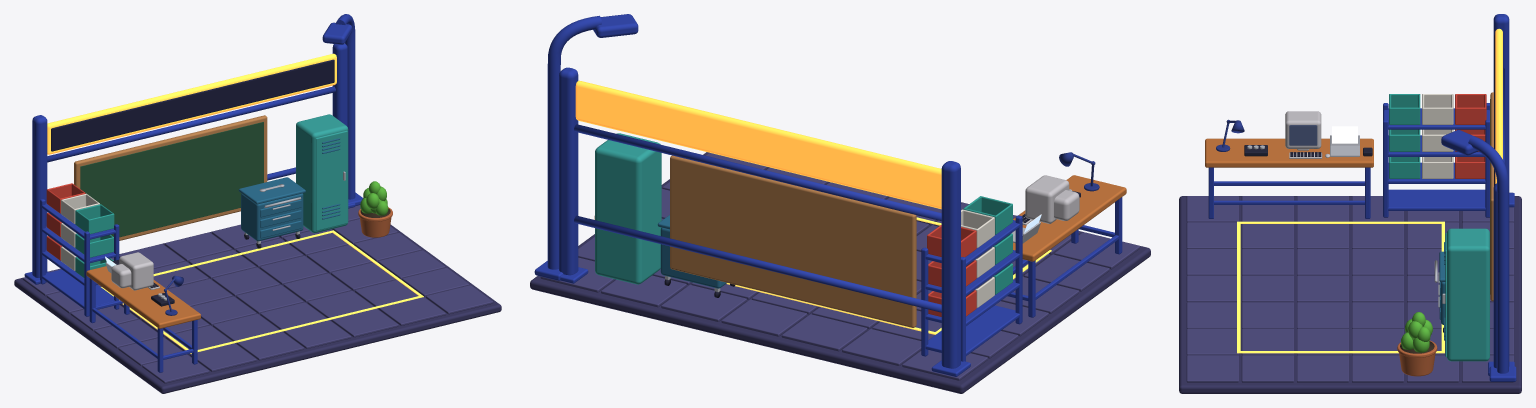
Rendered from pod.glb.
The picture shows the model from 3 angles, left to right: view 1: azimuth 30°, elevation 25°; view 2: azimuth 150°, elevation 25°; view 3: azimuth 270°, elevation 25°; orthographic projection. The views are drawn at different scales.
Visible parts, largest first — view 1: Floor, Board, SignPanel, Slab, Locker, Frame, Bench, Bins, Rack, ToolChest, SignRim, BoardFrame (+5 smaller); view 2: BoardFrame, Floor, SignRim, Frame, Slab, Locker, Rack, Bins, Bench, StreetLamp, Monitor, ToolChest (+1 smaller); view 3: Floor, Slab, Bins, Locker, Bench, Rack, StreetLamp, Frame, ZoneOutline, SignRim, Pot, Plant (+6 smaller).
Boxes of the visible parts, x1=… form: Floor: x1=22, y1=205, x2=493, y2=383; Board: x1=80, y1=122, x2=263, y2=237; SignPanel: x1=51, y1=59, x2=334, y2=151; Slab: x1=14, y1=224, x2=501, y2=393; Locker: x1=296, y1=114, x2=348, y2=233; Frame: x1=24, y1=43, x2=355, y2=284; Bench: x1=86, y1=266, x2=200, y2=372; Bins: x1=46, y1=183, x2=114, y2=277; Rack: x1=40, y1=199, x2=119, y2=316; ToolChest: x1=238, y1=177, x2=305, y2=248; SignRim: x1=47, y1=53, x2=336, y2=154; BoardFrame: x1=74, y1=115, x2=267, y2=240; BoardFrame: x1=670, y1=155, x2=916, y2=327; Floor: x1=540, y1=152, x2=1140, y2=380; SignRim: x1=575, y1=80, x2=941, y2=209; Frame: x1=559, y1=67, x2=970, y2=376; Slab: x1=530, y1=152, x2=1150, y2=393; Locker: x1=595, y1=133, x2=661, y2=284; Rack: x1=921, y1=215, x2=1022, y2=361; Bins: x1=927, y1=196, x2=1012, y2=316; Bench: x1=1007, y1=175, x2=1126, y2=317; StreetLamp: x1=534, y1=14, x2=638, y2=280; Monitor: x1=1025, y1=175, x2=1079, y2=223; ToolChest: x1=657, y1=215, x2=735, y2=297; Floor: x1=1186, y1=196, x2=1514, y2=382; Slab: x1=1179, y1=196, x2=1521, y2=393; Bins: x1=1389, y1=94, x2=1486, y2=178; Locker: x1=1442, y1=228, x2=1489, y2=361; Bench: x1=1205, y1=138, x2=1373, y2=218; Rack: x1=1383, y1=103, x2=1489, y2=217; StreetLamp: x1=1441, y1=130, x2=1516, y2=381; Frame: x1=1488, y1=14, x2=1514, y2=375; ZoneOutline: x1=1237, y1=221, x2=1444, y2=353; SignRim: x1=1495, y1=28, x2=1502, y2=183; Pot: x1=1397, y1=340, x2=1437, y2=376; Plant: x1=1401, y1=312, x2=1432, y2=352.
Size of the model in its own units: 5.76 by 3.35 by 4.36.
